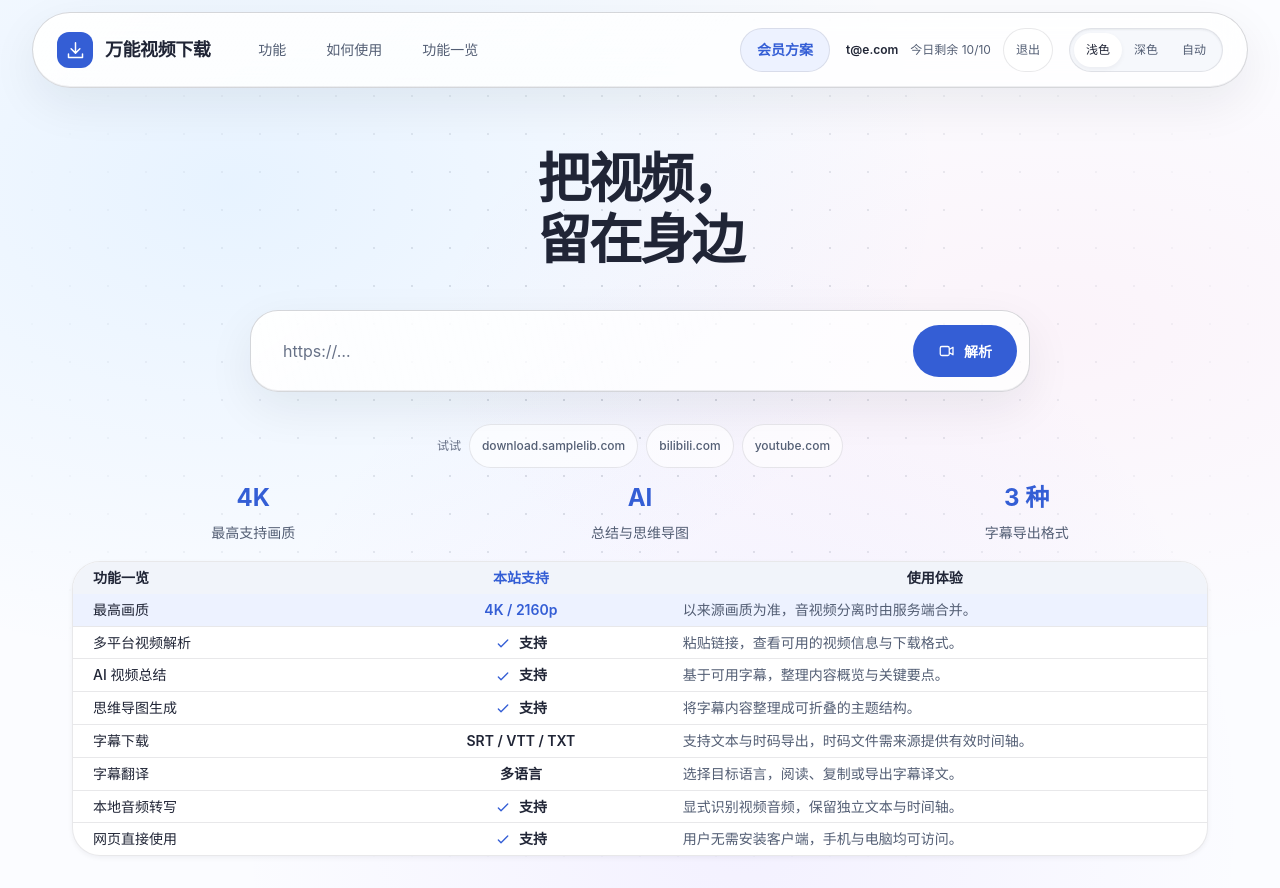
App 功能闭环 › 粘贴 → 解析 → 选清晰度 → 直链下载
The image size is (1280, 888).
In the field named "视频链接": (582, 351) [263,323,901,379], type "https://example.com/v"
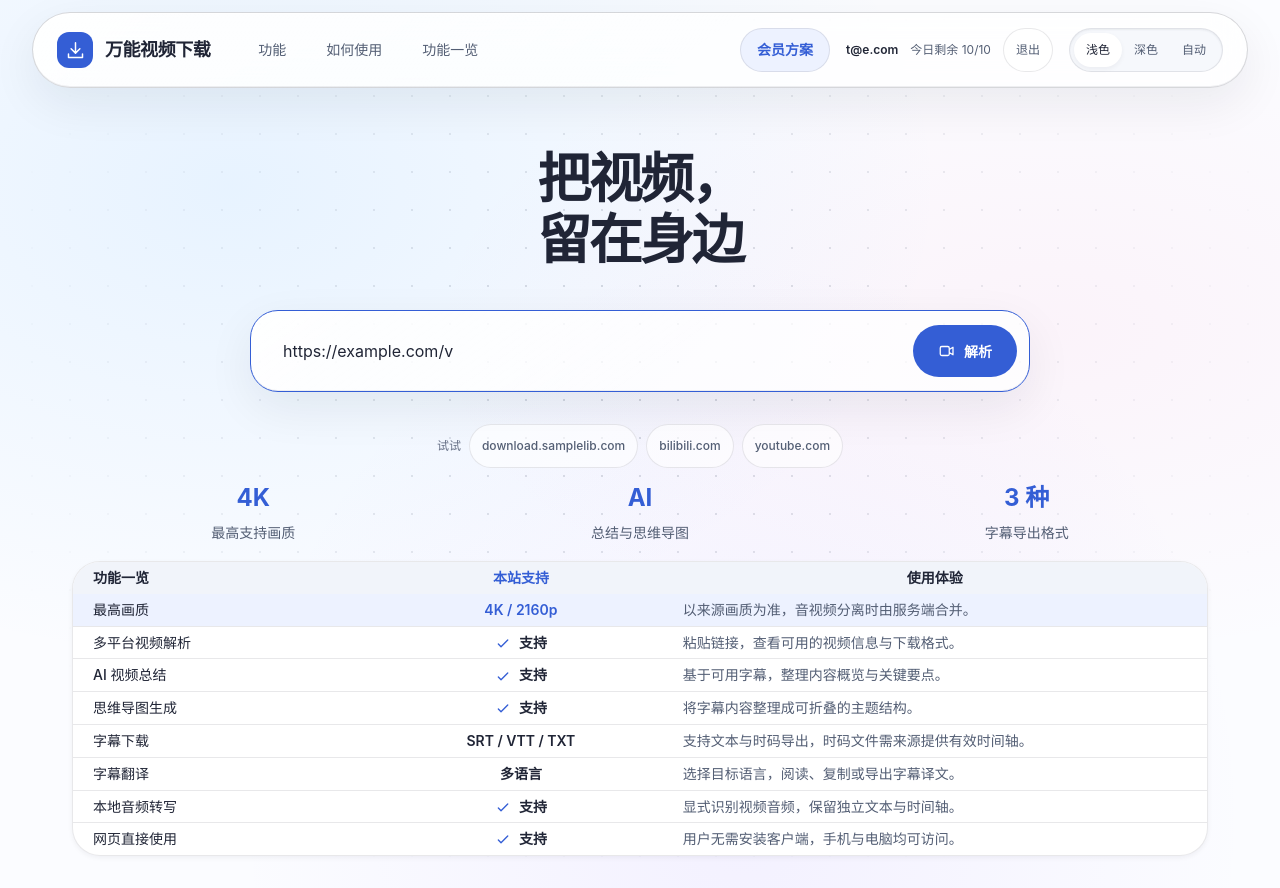
Click the button "解析": click(965, 351) [913,325,1017,377]
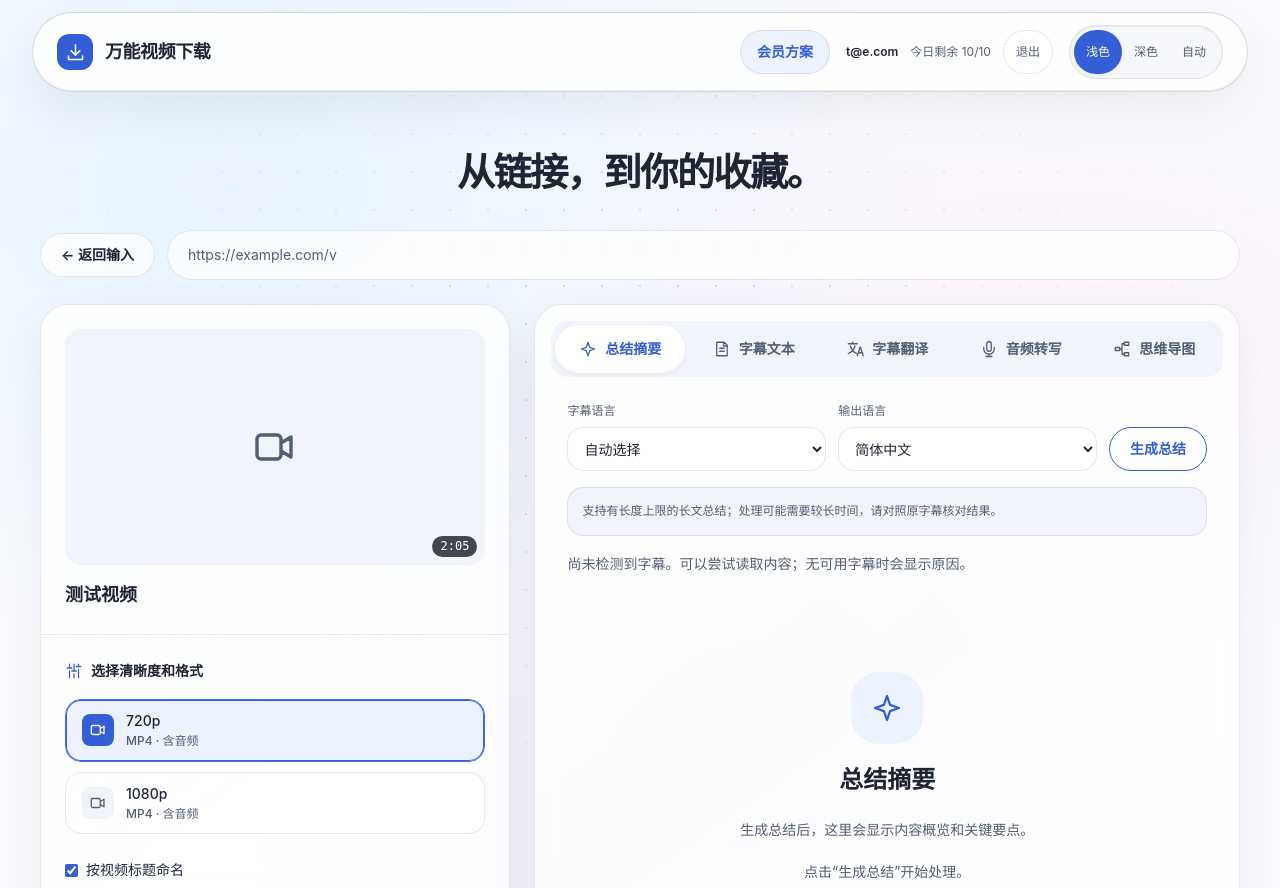
Click the checkbox labelled "按视频标题命名": click(72, 870) [65,864,78,877]
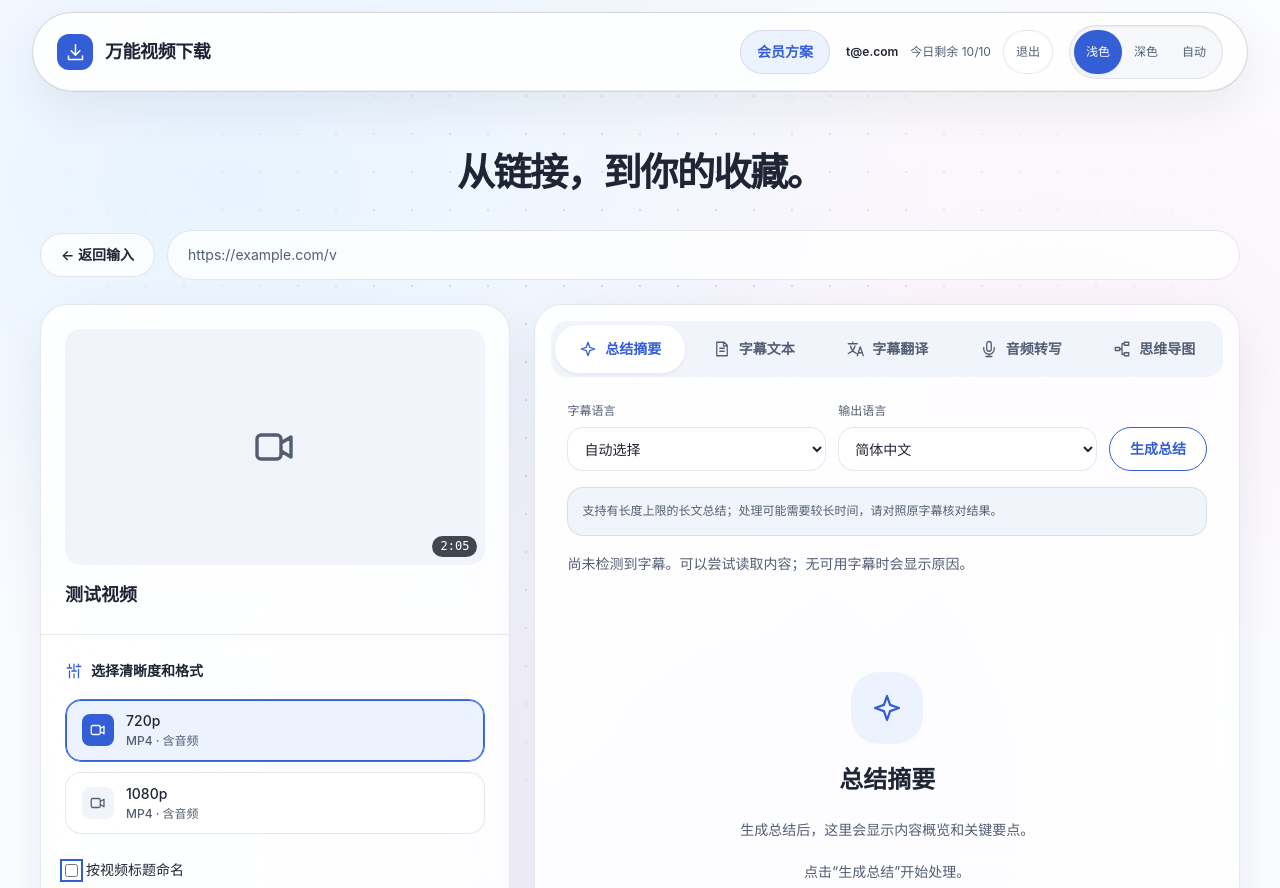
Click the button "1080p MP4 · 含音频": click(98, 803) [65,772,485,834]
(page scrolled)
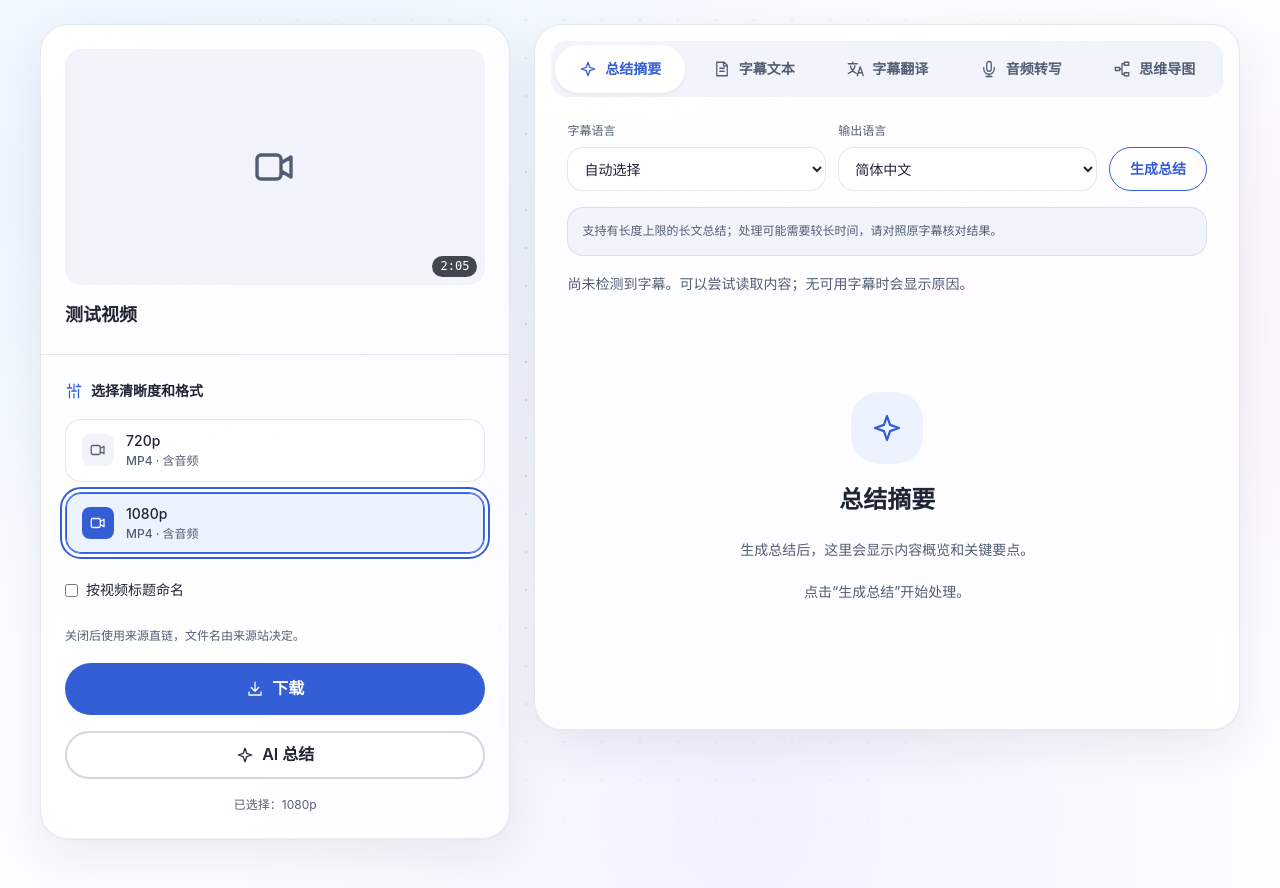
Click the button "下载": click(275, 688) [65,662,485,714]
(page scrolled)
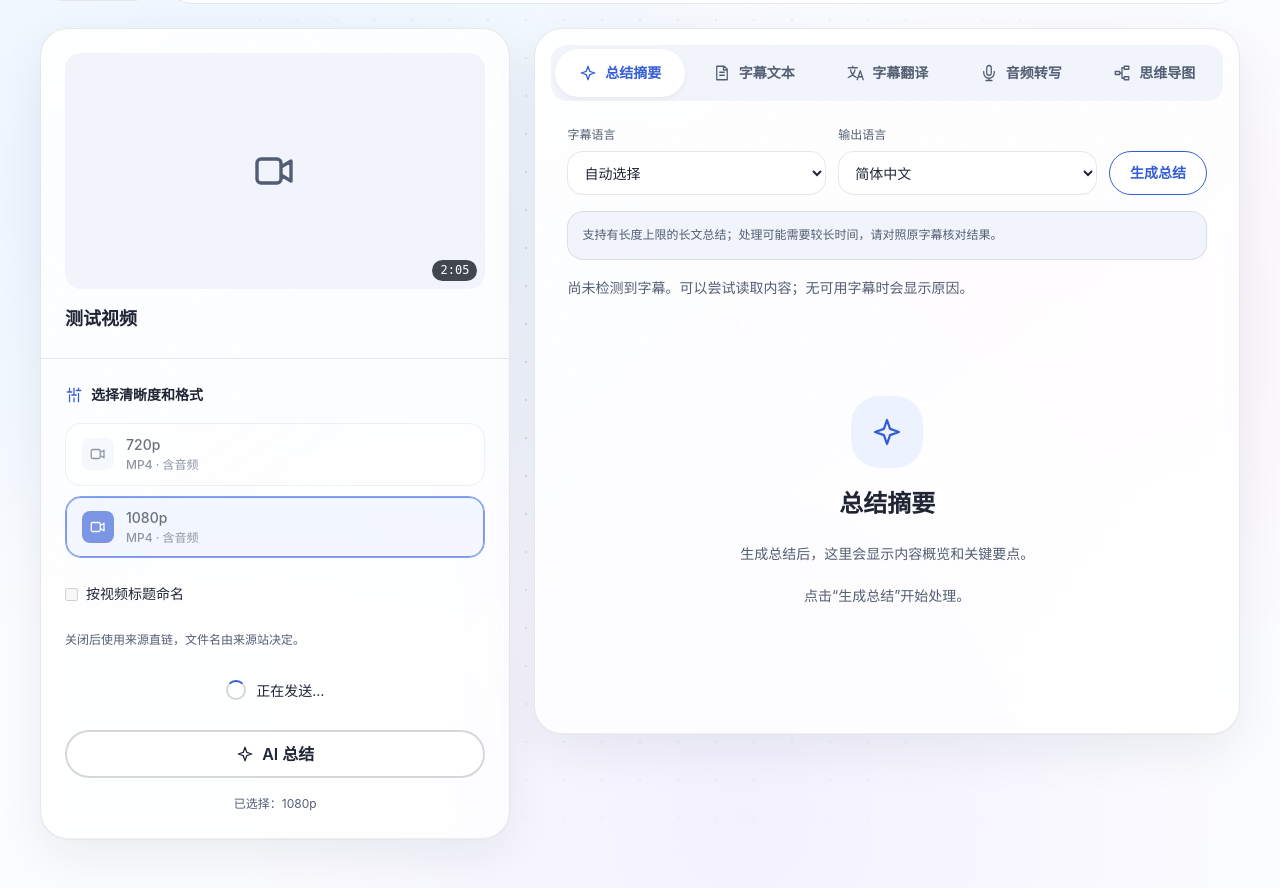
Expected: the element with test id "downloading-scene" is shown, [226,680,324,700]
